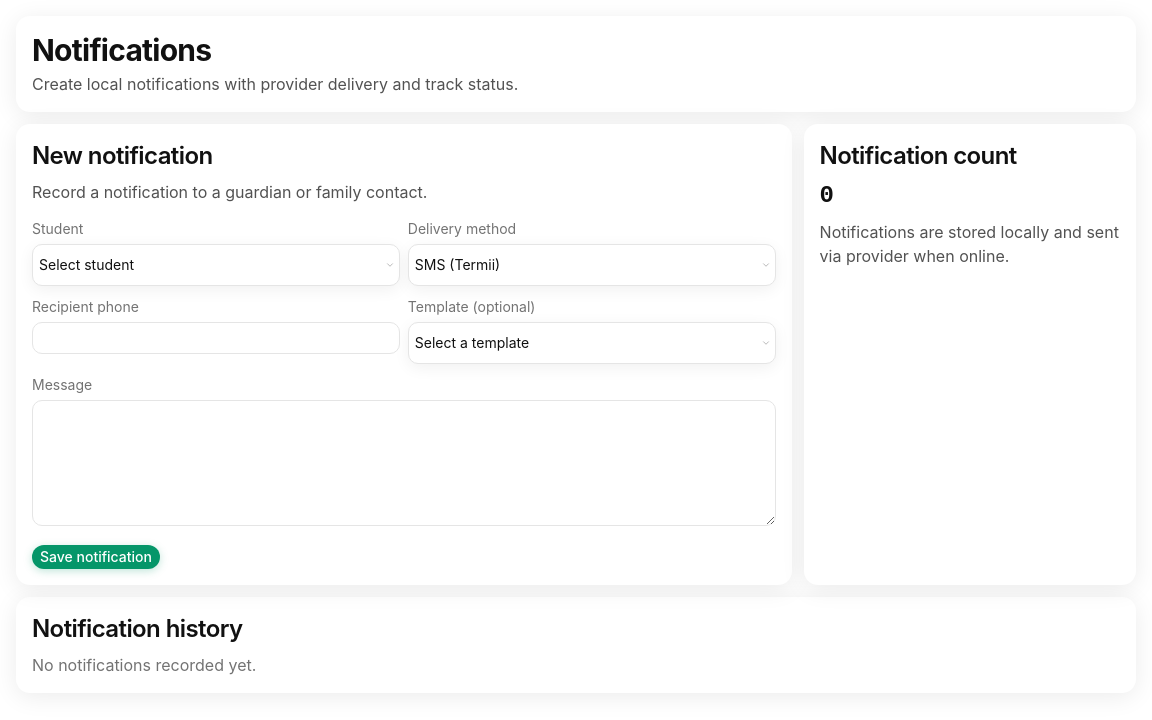
Test case: NotificationsView tenant school context › surfaces seed failures on submit instead of recording
Select "Ada Obi" in the dropdown labelled "Student" at (216, 265), box [32, 244, 400, 286]
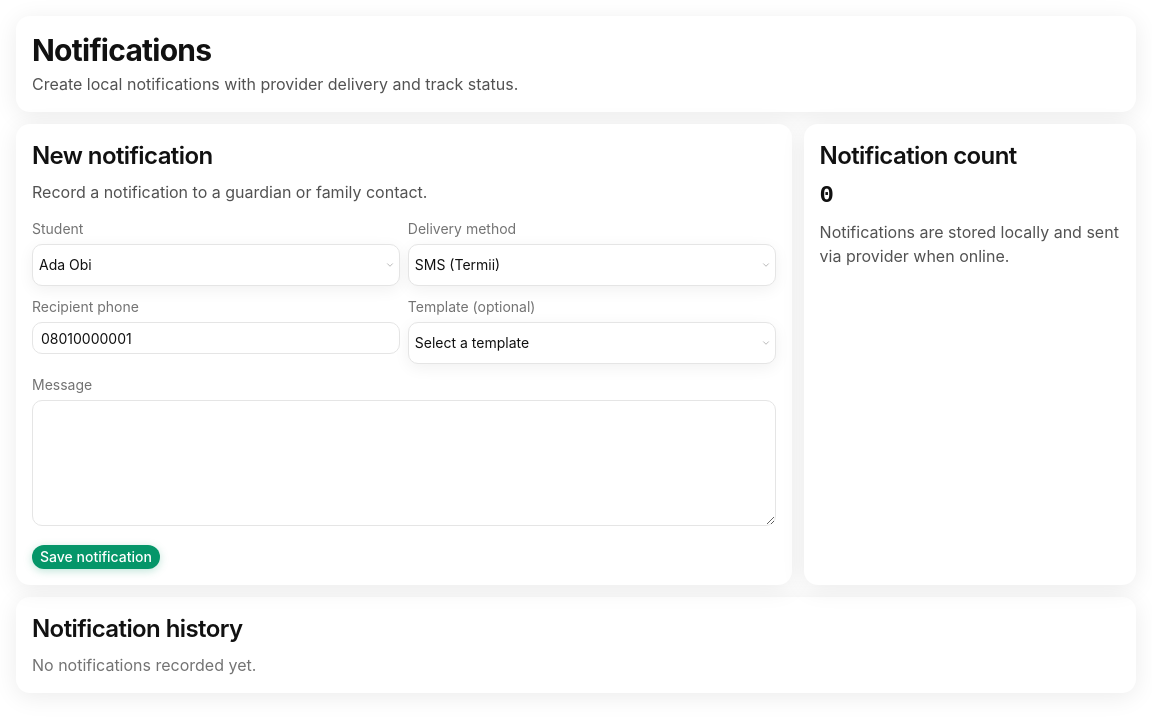
Type "Fees due" into the text box labelled "Message" at (404, 463), box [32, 400, 776, 526]
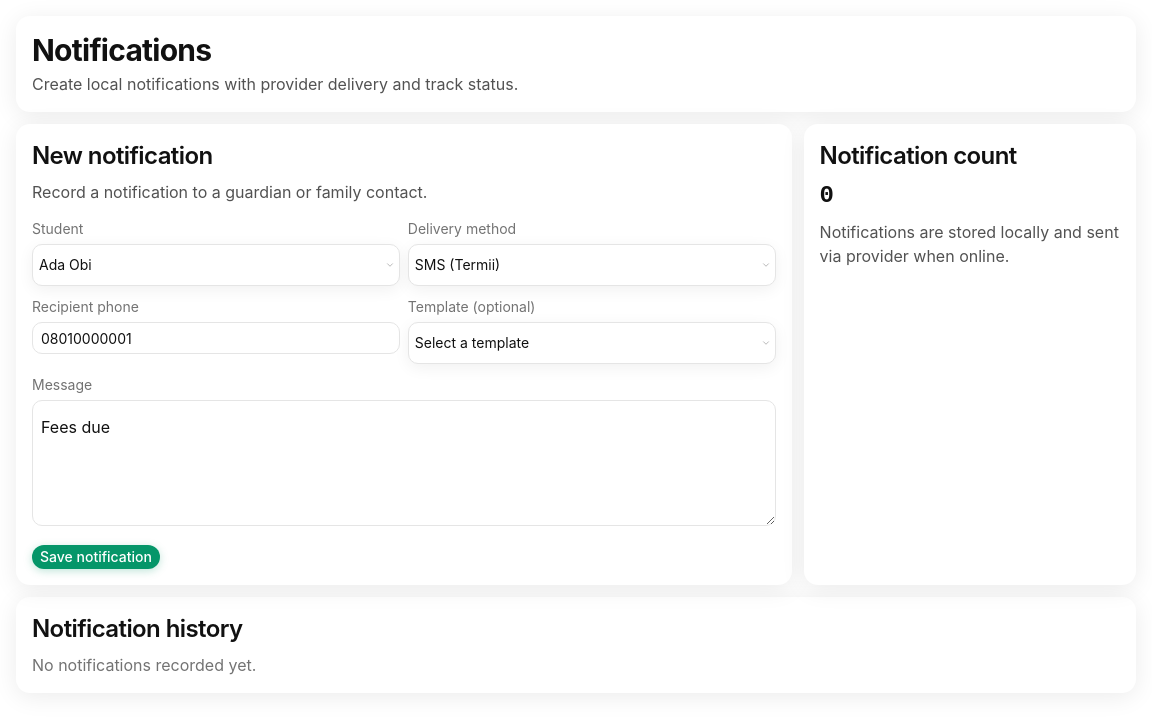
Click the button "Save notification" at (96, 557), box [32, 545, 160, 569]
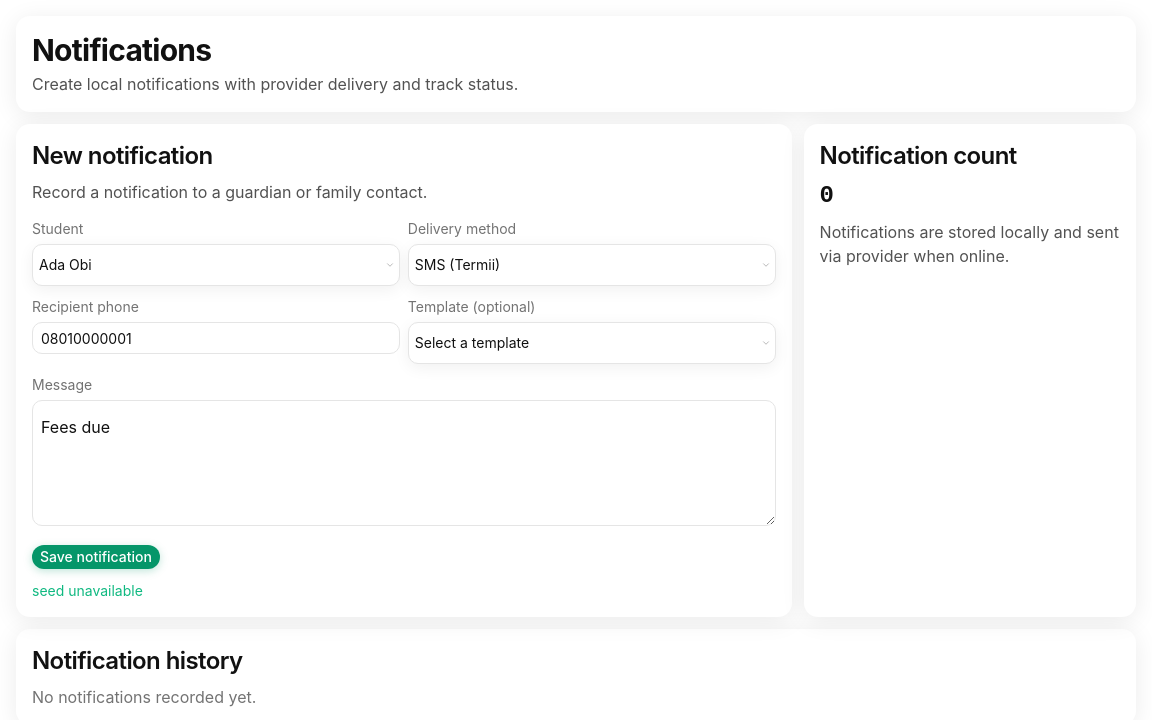
Result: the text "seed unavailable" is shown at [32, 582, 143, 599]
